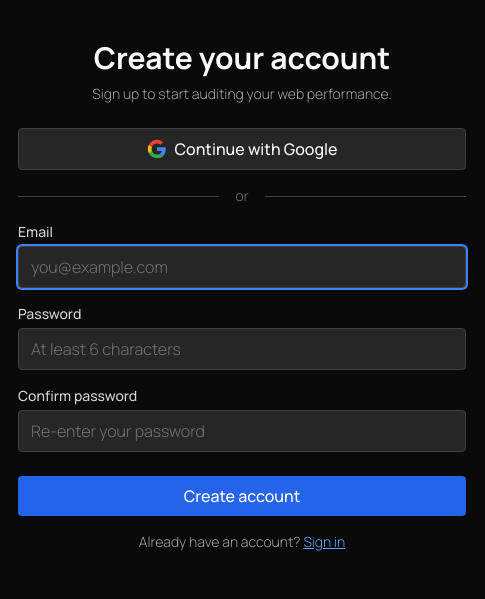
Test: P-PERF-137-002: User tries to sign up with existing email › shows error for too-many-requests
The image size is (485, 599).
Step 1. Type "test@example.com" into the field with test id "signup-email-input" → [242, 267], box [18,246,466,288]
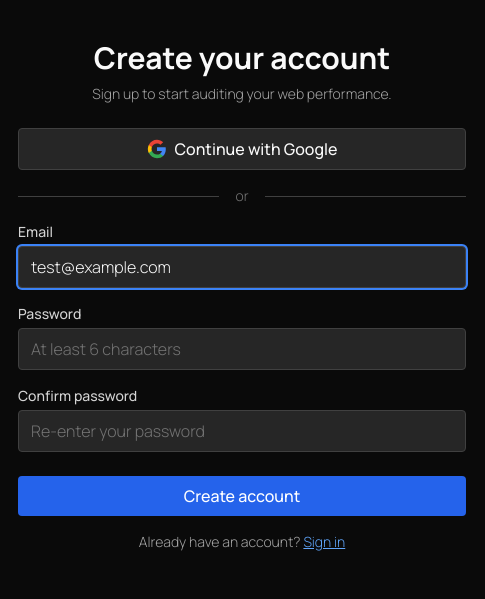
Step 2. Type "password123" into the password field with test id "signup-password-input" → [242, 349], box [18,328,466,370]
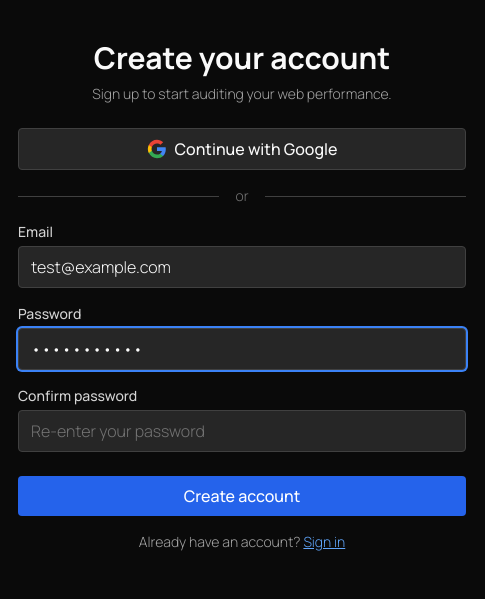
Step 3. Type "password123" into the password field with test id "signup-confirm-input" → [242, 431], box [18,410,466,452]
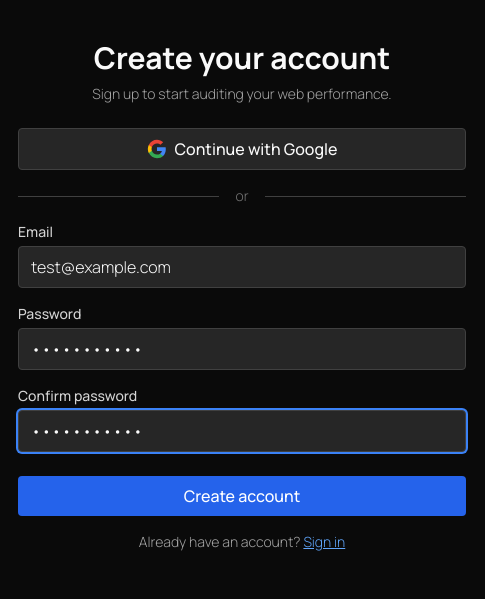
Step 4. Click the button with test id "signup-submit" → [242, 496], box [18,476,466,516]
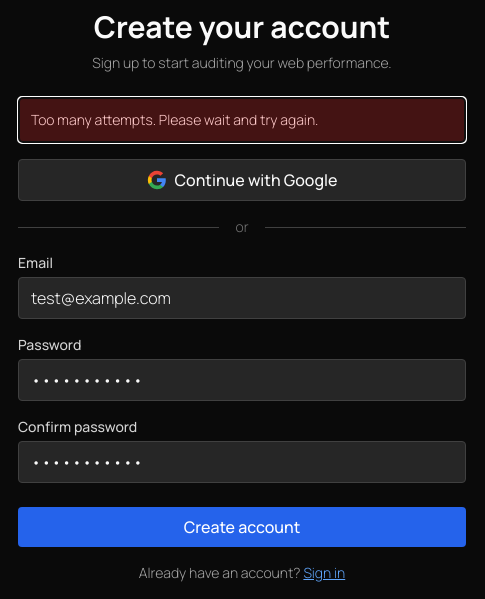
expect the message reads "Too many attempts. Please wait and try again.": met, box [31,110,318,129]
